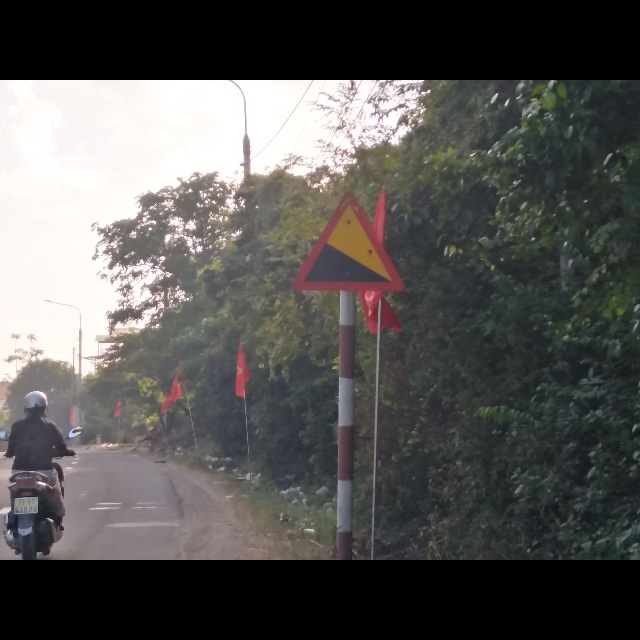Dốc lên nguy hiểm: (289, 187, 412, 291)
